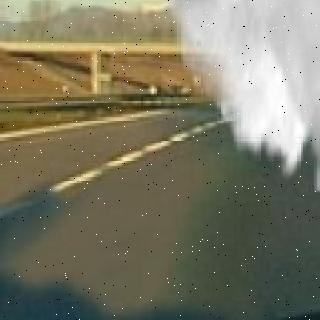smoke: (175, 0, 320, 172)
